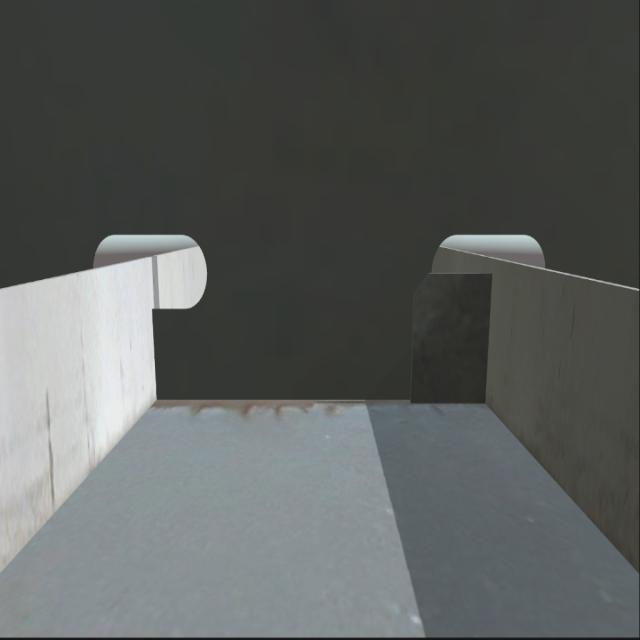fillet_yong_jeop_jang: (143, 392, 488, 412)
longi_yong_jeop_jang: (476, 272, 496, 405), (147, 302, 159, 398)
plate_CP03: (407, 274, 491, 402)
